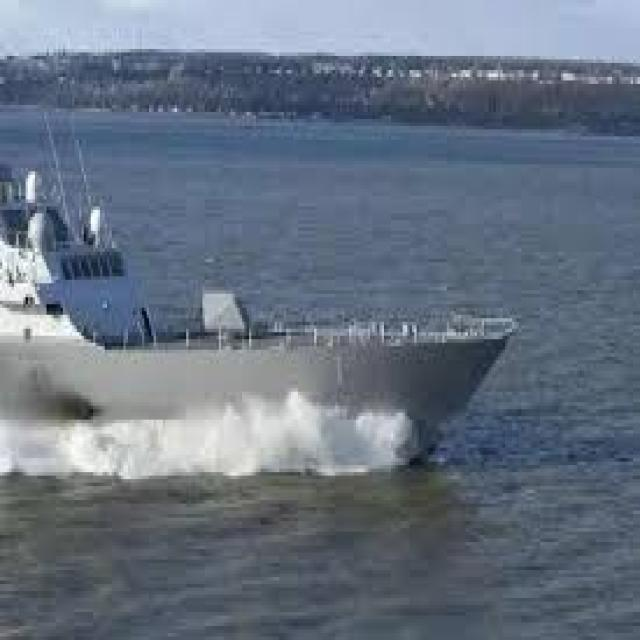navalvessels: (1, 93, 508, 437)
